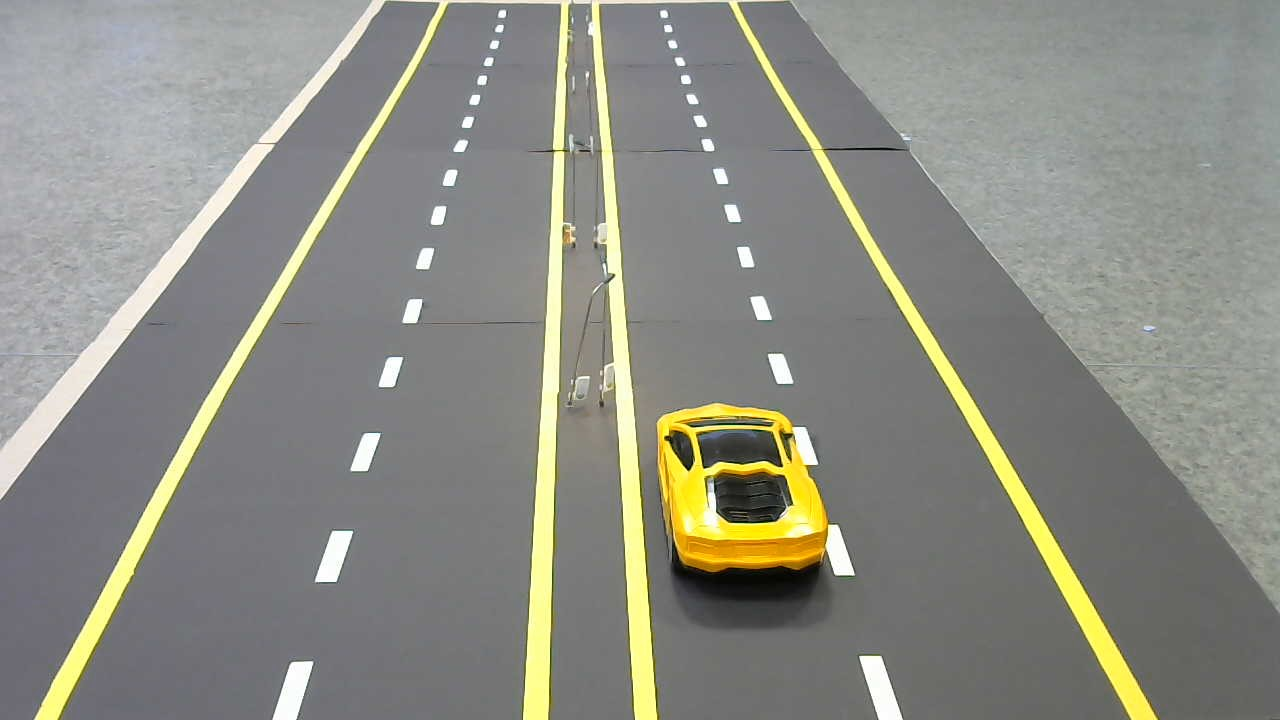back_car: (643, 396, 841, 580)
